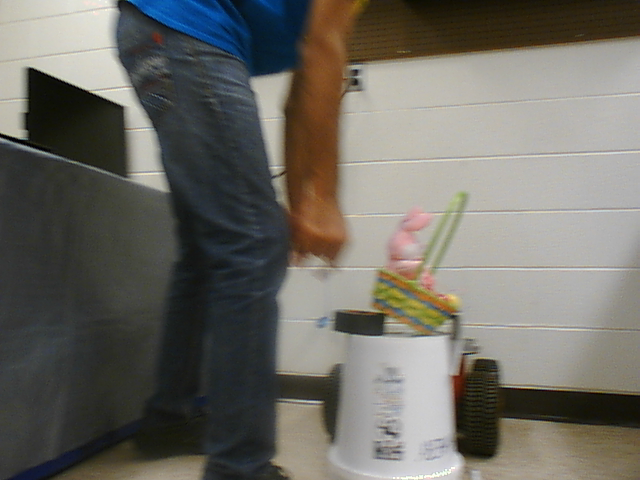bunny: (367, 180, 484, 349)
